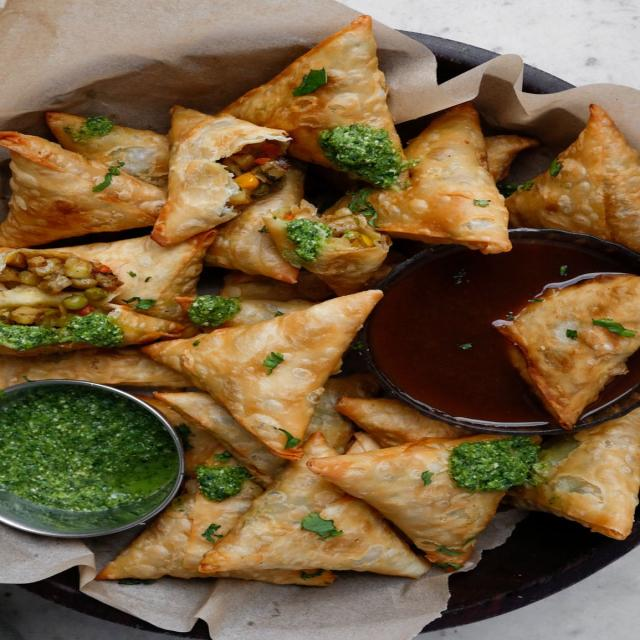SAMOSA: (144, 290, 381, 459), (198, 433, 428, 584), (218, 16, 400, 166), (308, 436, 506, 564), (96, 426, 260, 580), (494, 274, 639, 429), (368, 103, 510, 253), (506, 105, 639, 252), (0, 132, 166, 247), (151, 108, 290, 245), (511, 409, 639, 540), (50, 236, 214, 319), (206, 165, 304, 282), (264, 201, 391, 291), (47, 113, 168, 188)
